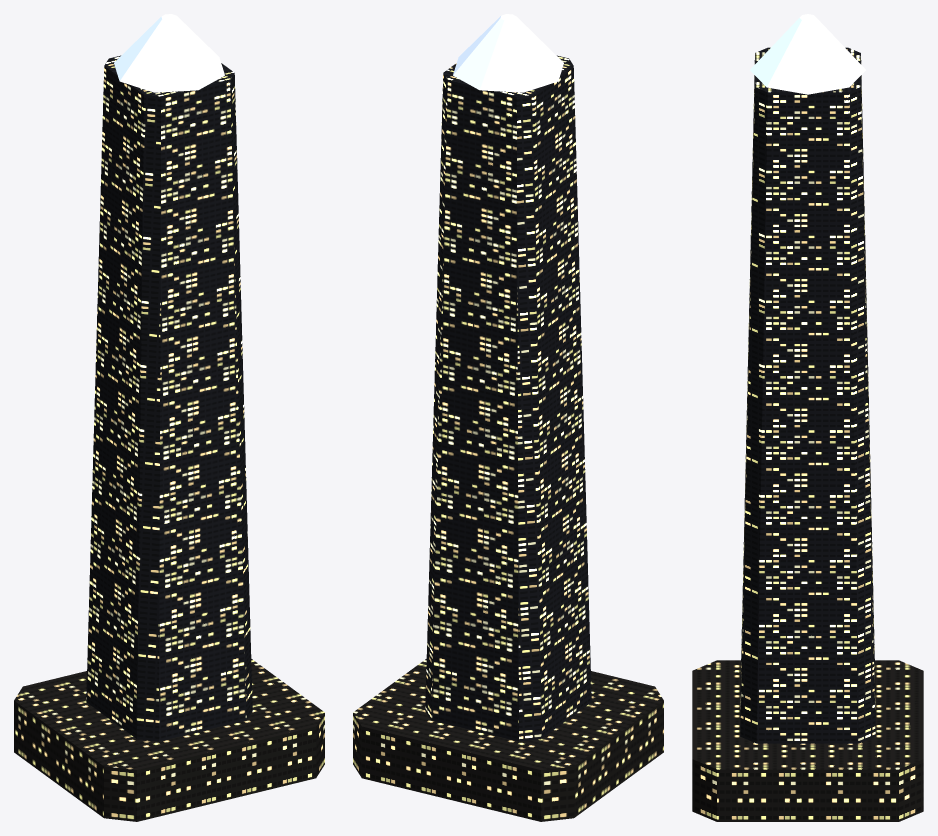
Rendered from republic-plaza.glb.
3 views of the same model, side by side, from view 1: azimuth 30°, elevation 25°; view 2: azimuth 150°, elevation 25°; view 3: azimuth 270°, elevation 25° (orthographic).
Parts seen in each view (by area): view 1: shaft, podium, crown; view 2: shaft, podium, crown; view 3: shaft, podium, crown.
Boxes of the visible parts, x1=… form: shaft: x1=86, y1=55, x2=252, y2=741; podium: x1=14, y1=659, x2=324, y2=821; crown: x1=114, y1=14, x2=224, y2=92; shaft: x1=425, y1=55, x2=591, y2=741; podium: x1=353, y1=659, x2=663, y2=821; crown: x1=453, y1=14, x2=563, y2=92; shaft: x1=740, y1=47, x2=875, y2=743; podium: x1=692, y1=660, x2=923, y2=821; crown: x1=750, y1=14, x2=865, y2=94.
Bounding box in the file's own units: 87.4 × 280 × 78.2.
Materials: 3 (2 with a texture image).
